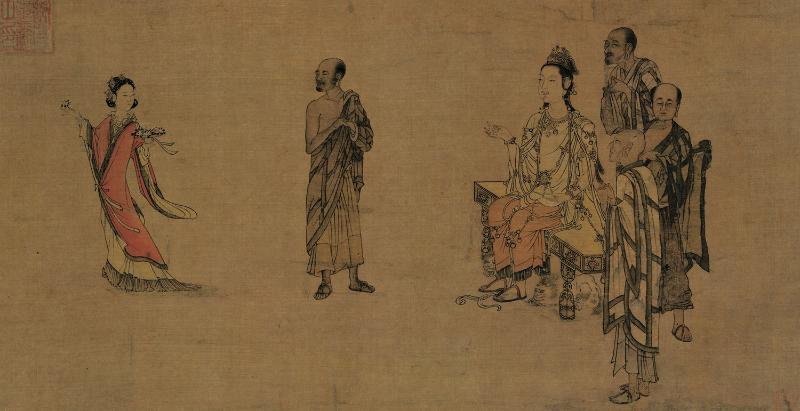monk: (298, 51, 388, 308), (641, 87, 719, 350), (603, 120, 667, 408), (594, 22, 669, 150)
woman: (56, 72, 224, 310), (459, 41, 606, 306)
